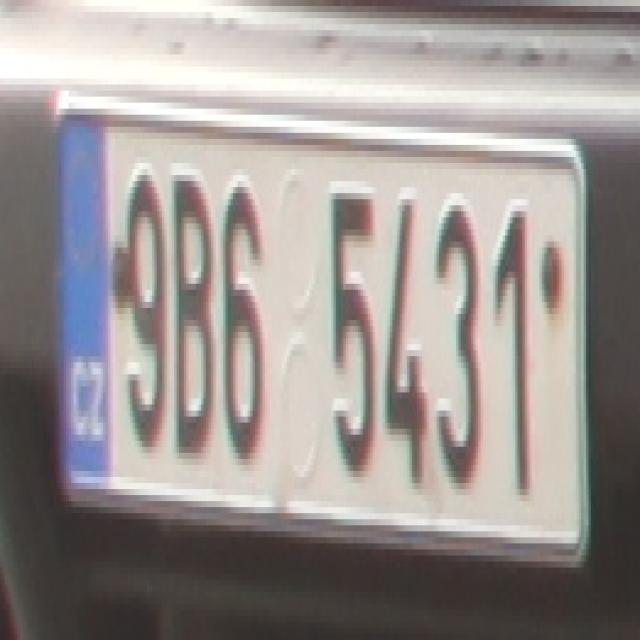1: (488, 187, 539, 507)
3: (434, 187, 486, 501)
4: (380, 181, 429, 495)
5: (323, 175, 378, 489)
6: (220, 175, 270, 471)
9: (120, 151, 169, 453)
B: (169, 163, 216, 465)
